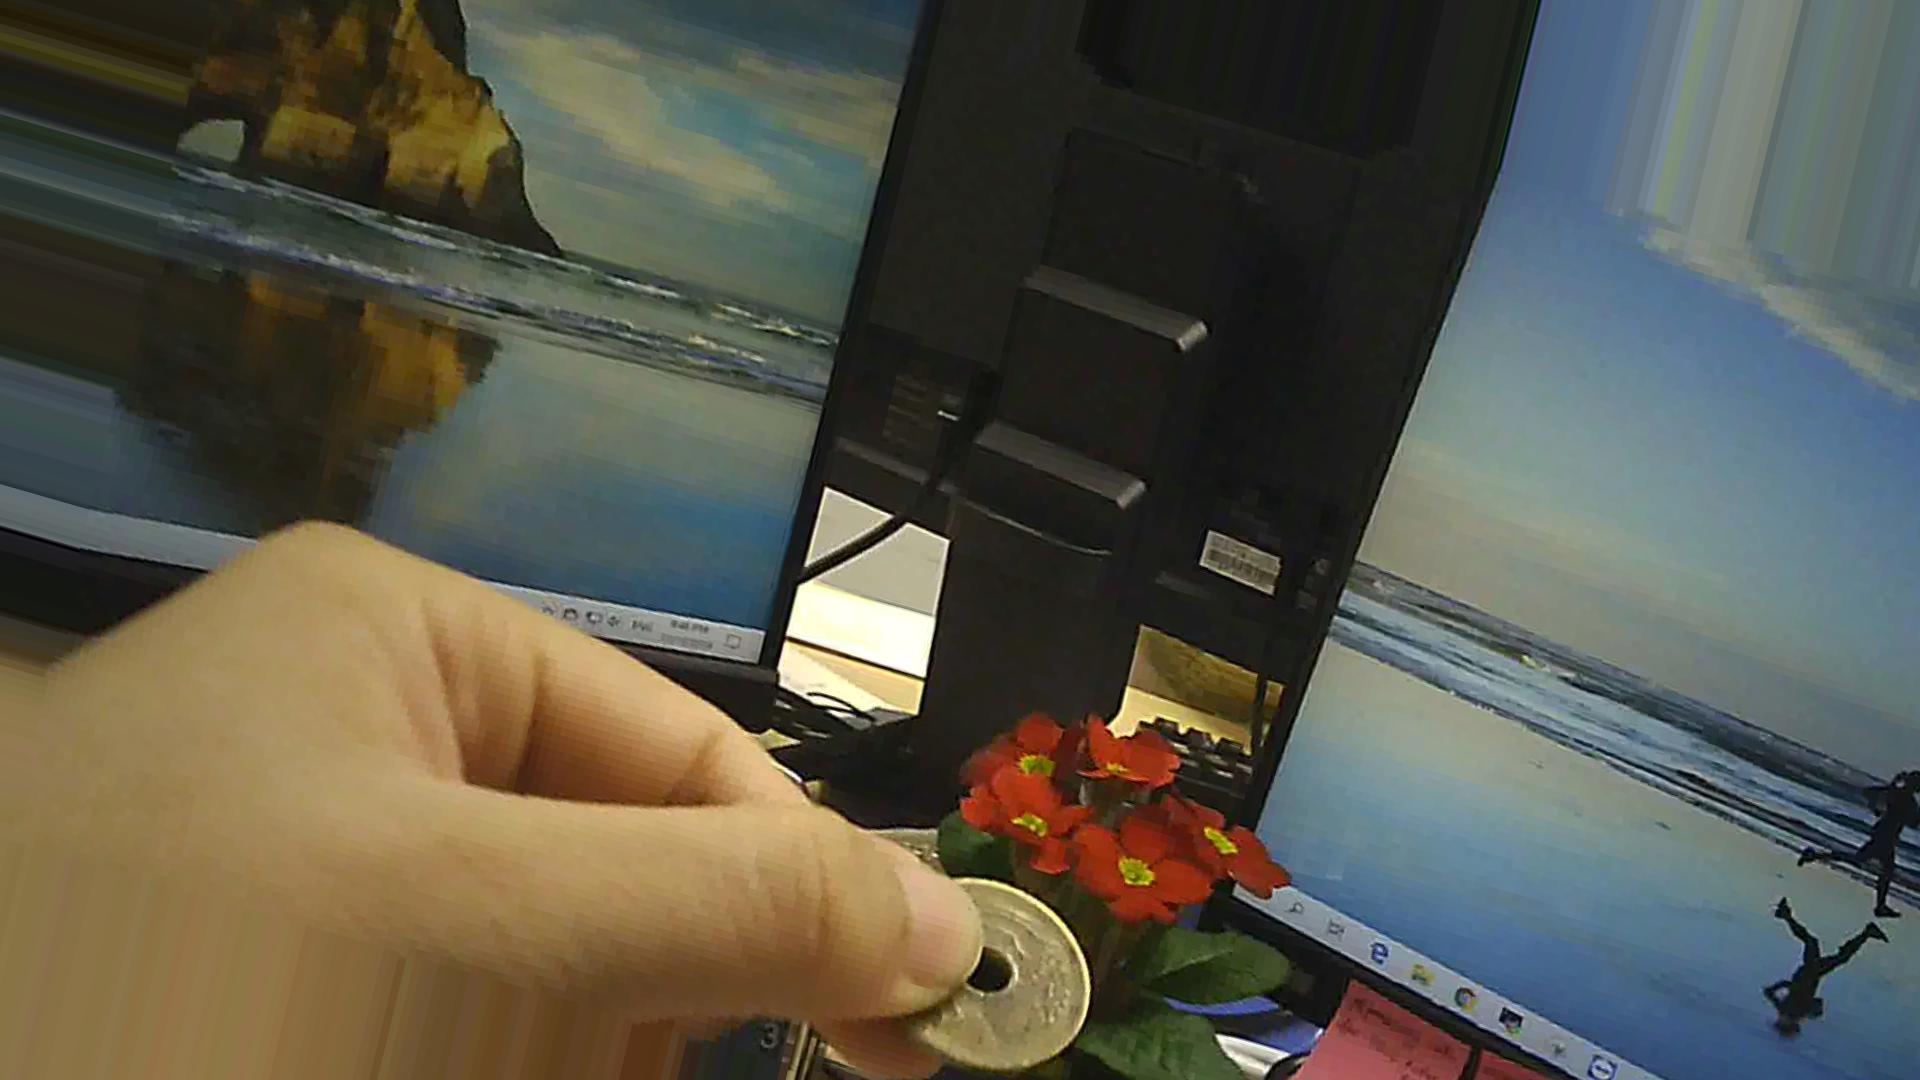5 Yen: (843, 872, 1112, 1062)
